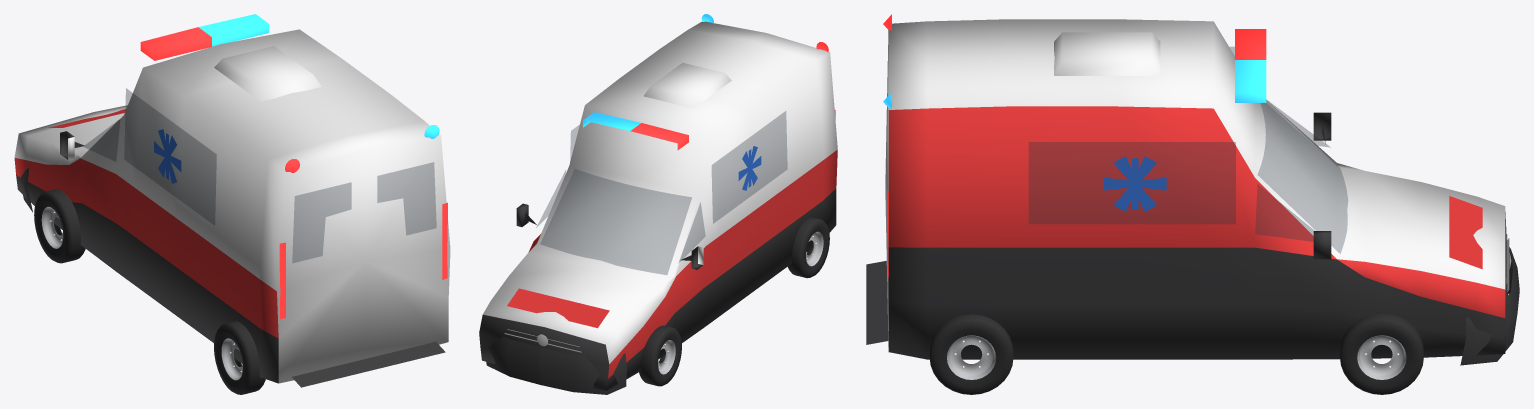
The model's file is AAA_Ambulance.glb.
3 views of the same model, side by side, from view 1: azimuth 30°, elevation 25°; view 2: azimuth 150°, elevation 25°; view 3: azimuth 270°, elevation 25° (orthographic). The views are drawn at different scales.
Visible parts, largest first — view 1: AMB_Sprinter_Unibody, AMB_Curved_Glazing, AMB_Emergency_Gear, AMB_Livery_and_Decals, AMB_Wheel_FR, AMB_Wheel_RR, AMB_Headlights_and_Taillights, AMB_Mirrors_and_Handles; view 2: AMB_Sprinter_Unibody, AMB_Curved_Glazing, AMB_Front_Bumper, AMB_Emergency_Gear, AMB_Livery_and_Decals, AMB_Wheel_FR, AMB_Wheel_RR, AMB_Mirrors_and_Handles; view 3: AMB_Sprinter_Unibody, AMB_Curved_Glazing, AMB_Emergency_Gear, AMB_Livery_and_Decals, AMB_Wheel_FL, AMB_Wheel_RL, AMB_Front_Bumper, AMB_Mirrors_and_Handles.
Boxes of the visible parts, bbox=[...] form: AMB_Sprinter_Unibody: bbox=[14, 29, 450, 383]; AMB_Curved_Glazing: bbox=[83, 88, 436, 262]; AMB_Emergency_Gear: bbox=[140, 14, 439, 172]; AMB_Livery_and_Decals: bbox=[48, 109, 445, 387]; AMB_Wheel_FR: bbox=[34, 189, 85, 263]; AMB_Wheel_RR: bbox=[214, 321, 265, 394]; AMB_Headlights_and_Taillights: bbox=[279, 202, 447, 318]; AMB_Mirrors_and_Handles: bbox=[60, 131, 84, 159]; AMB_Sprinter_Unibody: bbox=[479, 21, 837, 390]; AMB_Curved_Glazing: bbox=[536, 111, 787, 274]; AMB_Front_Bumper: bbox=[486, 329, 626, 394]; AMB_Emergency_Gear: bbox=[583, 14, 828, 150]; AMB_Livery_and_Decals: bbox=[507, 146, 761, 328]; AMB_Wheel_FR: bbox=[639, 325, 681, 386]; AMB_Wheel_RR: bbox=[787, 217, 829, 278]; AMB_Mirrors_and_Handles: bbox=[516, 203, 703, 269]; AMB_Sprinter_Unibody: bbox=[885, 19, 1507, 359]; AMB_Curved_Glazing: bbox=[1029, 47, 1347, 253]; AMB_Emergency_Gear: bbox=[883, 14, 1266, 108]; AMB_Livery_and_Decals: bbox=[866, 156, 1482, 344]; AMB_Wheel_FL: bbox=[1340, 313, 1423, 394]; AMB_Wheel_RL: bbox=[929, 314, 1013, 394]; AMB_Front_Bumper: bbox=[1460, 234, 1519, 365]; AMB_Mirrors_and_Handles: bbox=[1313, 112, 1331, 259].
Size of what is drawn, in the model's own units: 2.58 by 2.92 by 5.83.
